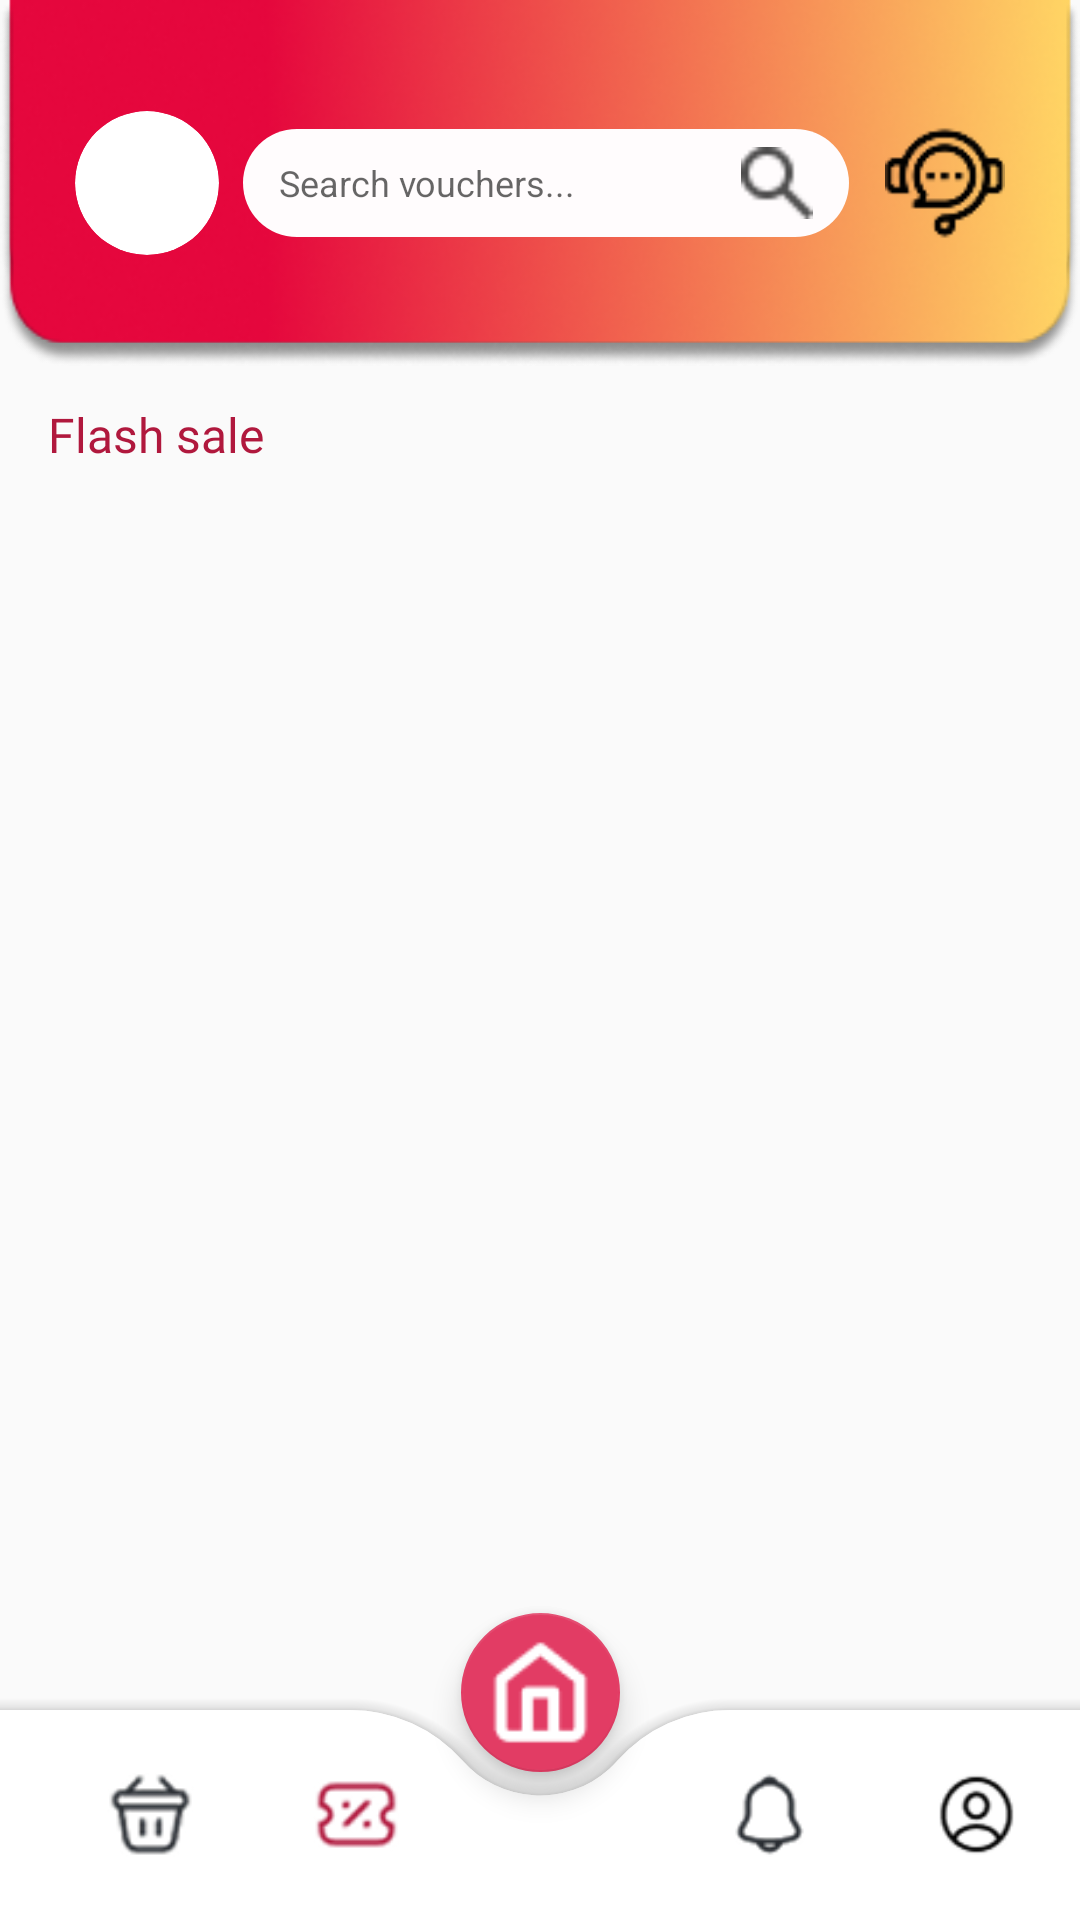

Locate icon controls on the screen. Image size 1080x1920, boxes as (x1, y1, x2, y2).
account: (940, 1776, 1013, 1853)
cart: (111, 1775, 190, 1855)
chat: (885, 123, 1005, 243)
home: (461, 1631, 620, 1790)
notification: (736, 1774, 803, 1855)
voucher: (317, 1781, 396, 1848)
